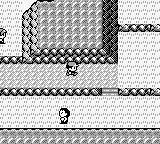main: (66, 62, 79, 75)
no-caminable: (22, 0, 118, 64), (1, 129, 159, 143)
npc: (59, 108, 70, 124), (0, 28, 7, 44)
salto: (1, 88, 101, 95), (118, 24, 159, 32), (119, 88, 159, 95), (0, 56, 22, 63)
